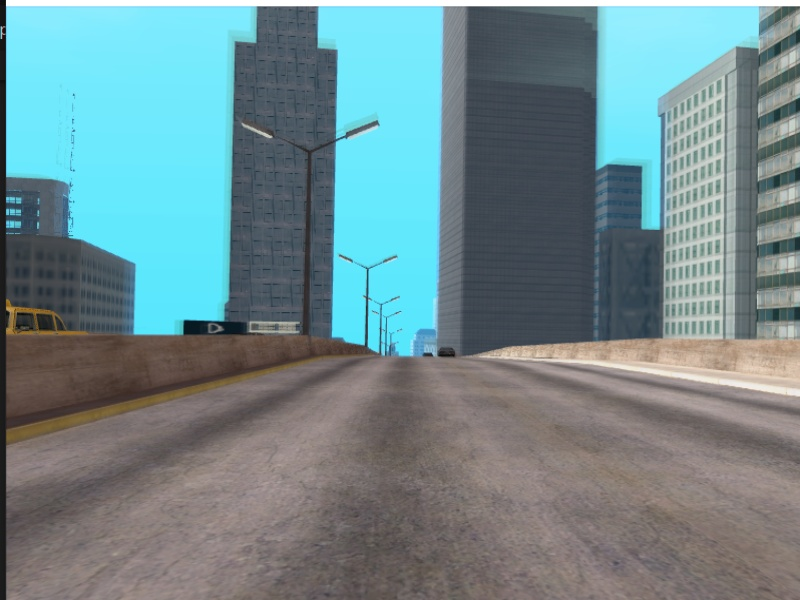pole: (304, 153, 314, 335), (363, 268, 371, 348), (378, 304, 383, 355)
vehicle: (437, 346, 456, 359)
